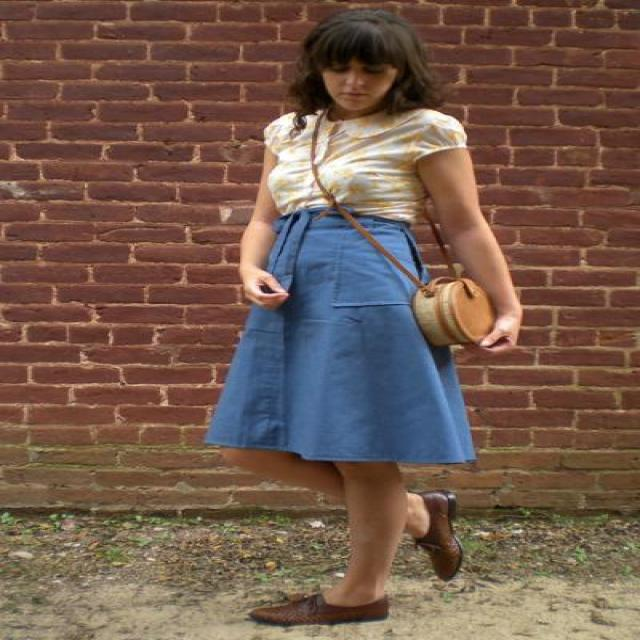bag: (384, 247, 520, 368)
shirt: (259, 109, 469, 221)
shoe: (250, 480, 464, 630)
skirt: (205, 192, 475, 463)
